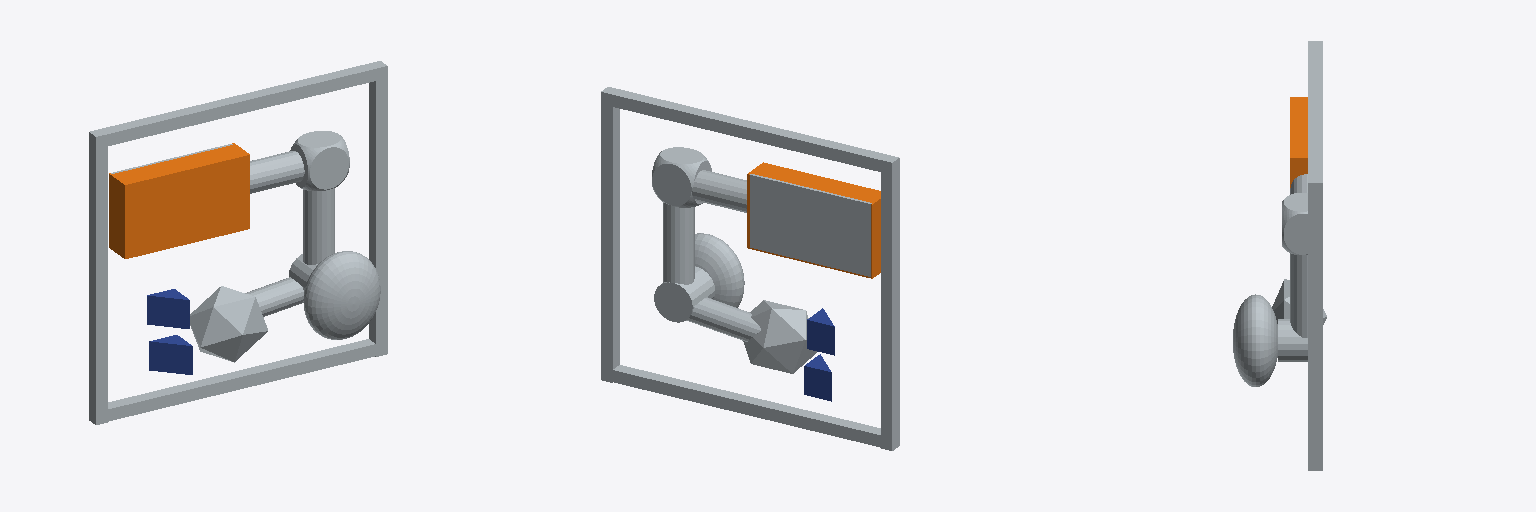
The model's file is tinker.obj.
3 renders of one model, left to right at view 1: azimuth 30°, elevation 25°; view 2: azimuth 150°, elevation 25°; view 3: azimuth 270°, elevation 25°, orthographic.
Visible parts, largest first — view 1: obj_0; view 2: obj_0; view 3: obj_0.
Boxes of the visible parts, <box> form: obj_0: <box>89,61,387,424</box>; obj_0: <box>601,87,899,450</box>; obj_0: <box>1233,41,1326,470</box>.
Bounding box in the file's own units: 209 × 198 × 59.